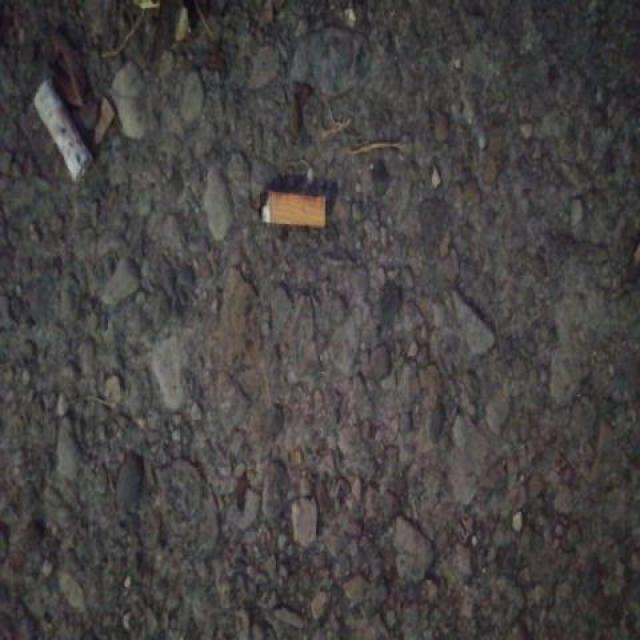non-organic waste: (252, 184, 331, 237)
